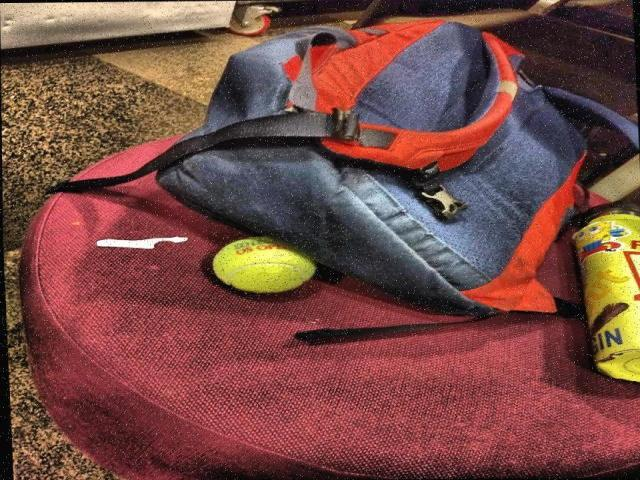tennis-ball: (212, 236, 318, 295)
